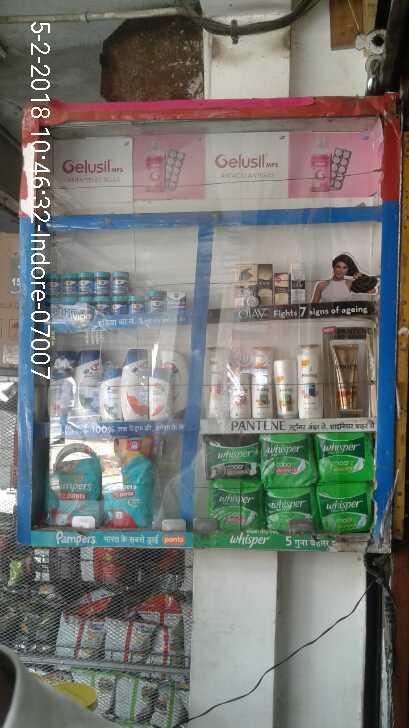beauty: (46, 352, 184, 423), (297, 347, 326, 421)
pharmacy: (46, 436, 154, 527), (36, 274, 178, 320), (263, 484, 313, 546), (260, 436, 320, 486), (315, 490, 373, 540), (315, 436, 376, 483), (204, 486, 261, 536), (198, 440, 263, 478)
